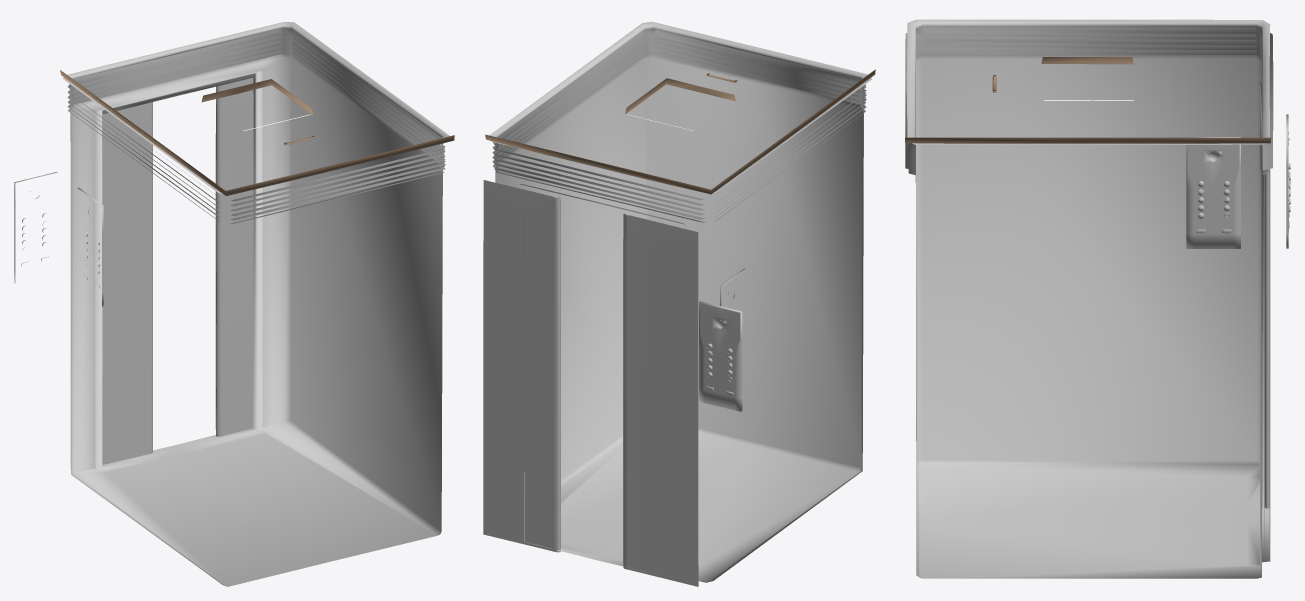
Rendered from elevator.gltf.
3 renders of one model, left to right at view 1: azimuth 30°, elevation 25°; view 2: azimuth 150°, elevation 25°; view 3: azimuth 270°, elevation 25°, orthographic. The views are drawn at different scales.
Visible parts, largest first — view 1: Box001, elevator-door-right, elevator-door-left, roof; view 2: Box001, elevator-door-left, elevator-door-right, Panel-outer, roof; view 3: Box001, Panel-inner, roof, elevator-door-right, elevator-door-left.
Part boxes in pixels (<box>): Box001: <box>62,22,449,586</box>; elevator-door-right: <box>102,102,152,464</box>; elevator-door-left: <box>215,78,253,436</box>; roof: <box>60,70,454,195</box>; Box001: <box>489,21,871,582</box>; elevator-door-left: <box>483,180,560,552</box>; elevator-door-right: <box>623,213,698,586</box>; Panel-outer: <box>699,301,742,411</box>; roof: <box>485,69,875,194</box>; Box001: <box>905,19,1273,578</box>; Panel-inner: <box>1186,137,1240,248</box>; roof: <box>905,57,1271,143</box>; elevator-door-right: <box>1264,173,1269,508</box>; elevator-door-left: <box>1264,169,1270,545</box>.
Bounding box in the file's own units: 2.1 × 3.03 × 2.36.
